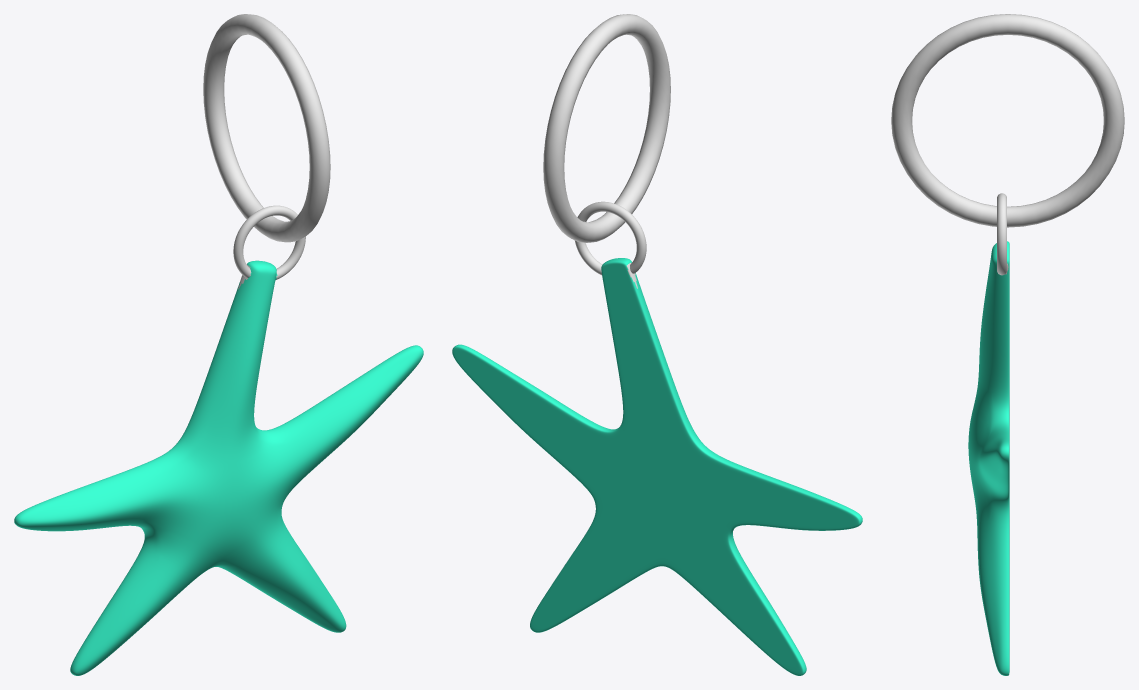
Rendered from CHARMS3.glb.
The picture shows the model from 3 angles, left to right: view 1: azimuth 30°, elevation 25°; view 2: azimuth 150°, elevation 25°; view 3: azimuth 270°, elevation 25°; orthographic projection.
Parts seen in each view (by area): view 1: charm6; view 2: charm6; view 3: charm6.
Part boxes in pixels (x1,y1,x2,y2): charm6: [14, 14, 423, 675]; charm6: [452, 14, 862, 675]; charm6: [891, 14, 1124, 675].
Bounding box in the file's own units: 3.14 × 4.61 × 1.56.
